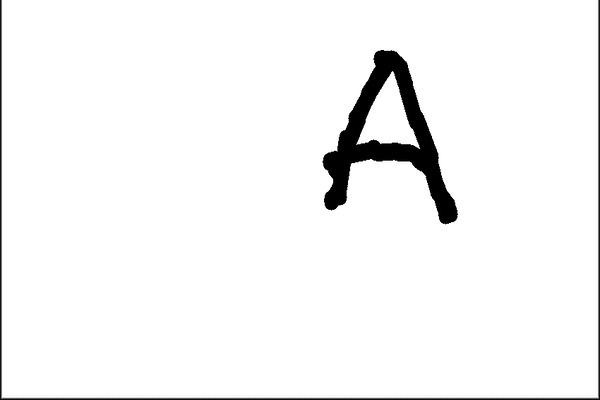A: (317, 42, 458, 232)
